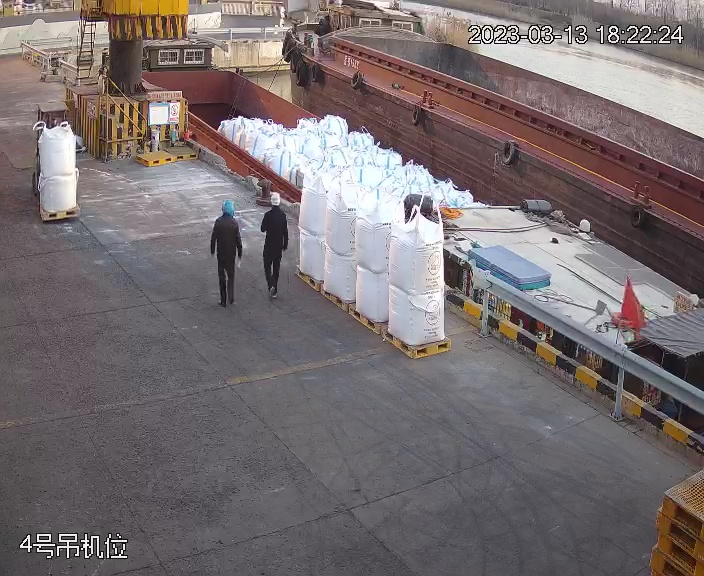head: (212, 199, 240, 231), (262, 191, 288, 223)
helmet: (221, 199, 237, 214), (267, 192, 282, 204)
people: (207, 198, 244, 308), (259, 188, 290, 301)
